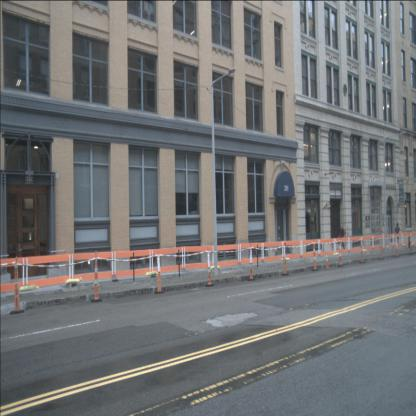cone: (10, 256, 24, 314), (91, 250, 102, 302), (154, 250, 165, 294), (205, 247, 214, 287), (248, 244, 256, 281), (281, 243, 289, 276), (311, 238, 319, 270), (337, 236, 344, 267), (360, 236, 366, 264), (378, 235, 384, 261), (408, 232, 414, 254), (394, 233, 399, 258), (324, 253, 329, 270)
